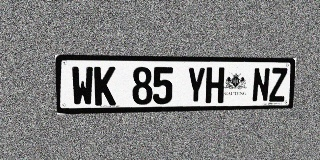5: (153, 67, 173, 104)
8: (132, 67, 153, 105)
H: (205, 67, 225, 103)
K: (94, 66, 116, 106)
N: (252, 68, 270, 102)
W: (71, 66, 94, 106)
Y: (186, 67, 206, 104)
Z: (269, 68, 287, 102)
